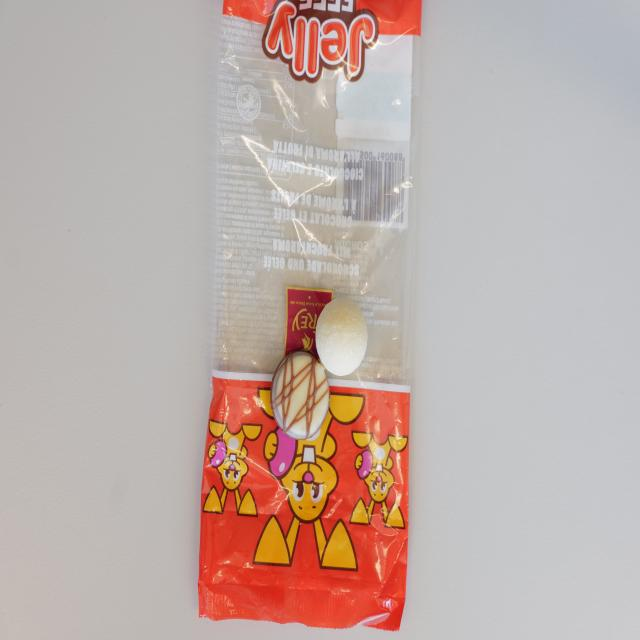Comtesse: (318, 294, 366, 381)
Creme_brulee: (272, 350, 330, 445)
